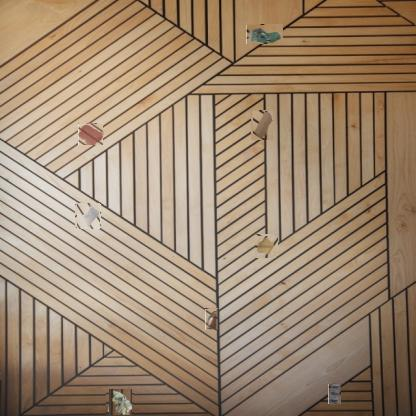dirty: (246, 24, 283, 44), (106, 390, 133, 416), (252, 110, 274, 140), (76, 203, 100, 229), (205, 308, 218, 330), (328, 384, 341, 404)
liquid: (78, 123, 103, 145), (255, 235, 277, 257)
